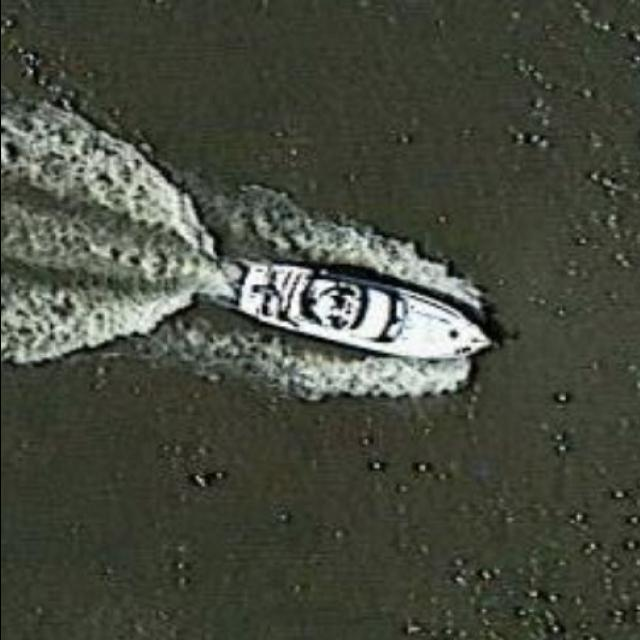ship: (232, 256, 499, 370)
